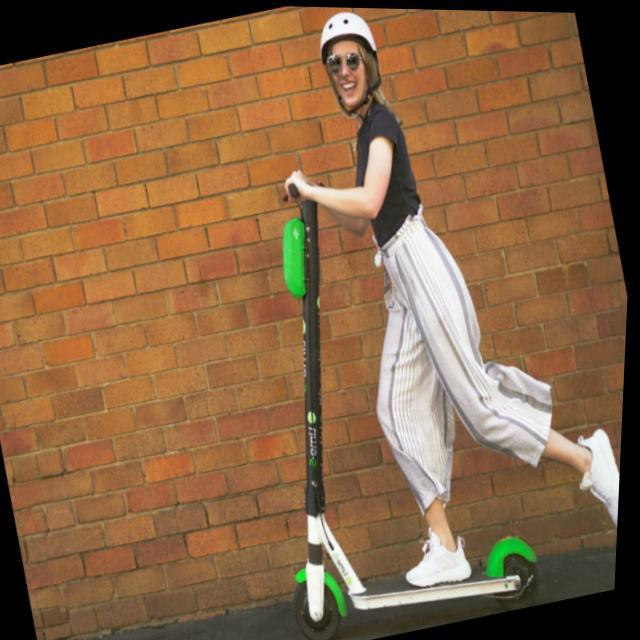Helmet: (314, 9, 390, 119)
